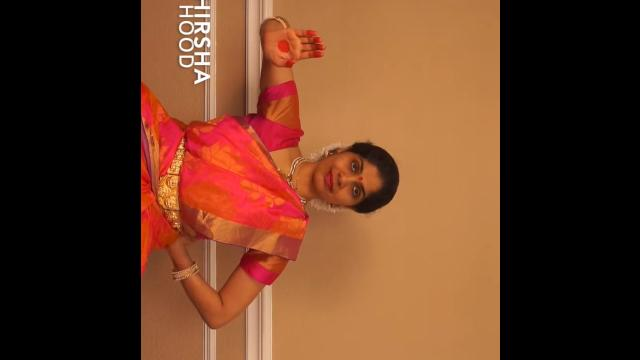sarpsheesh: (242, 13, 344, 74)
